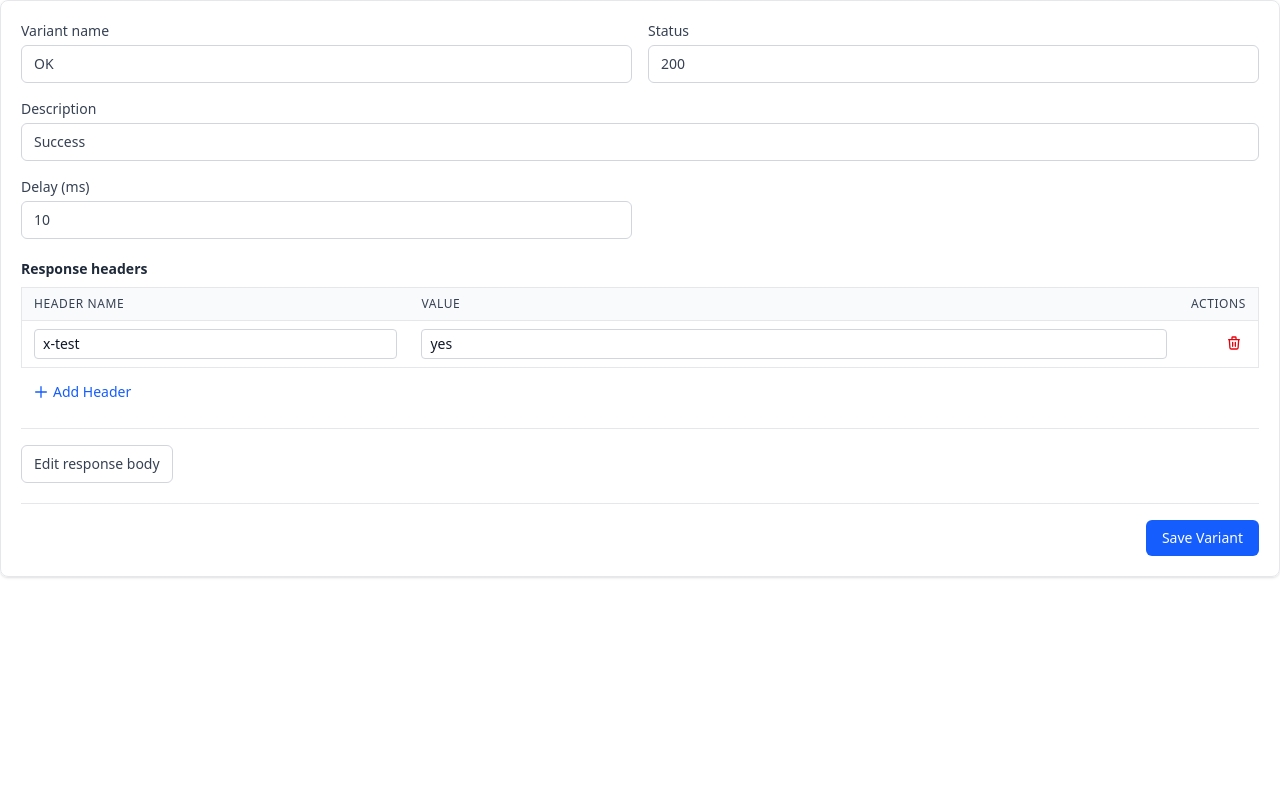
Test: VariantEditor › opens a bodyless Variant lazily as an empty octet-stream draft
Click the button "Edit response body".
click(97, 464)  # box [21,445,173,483]
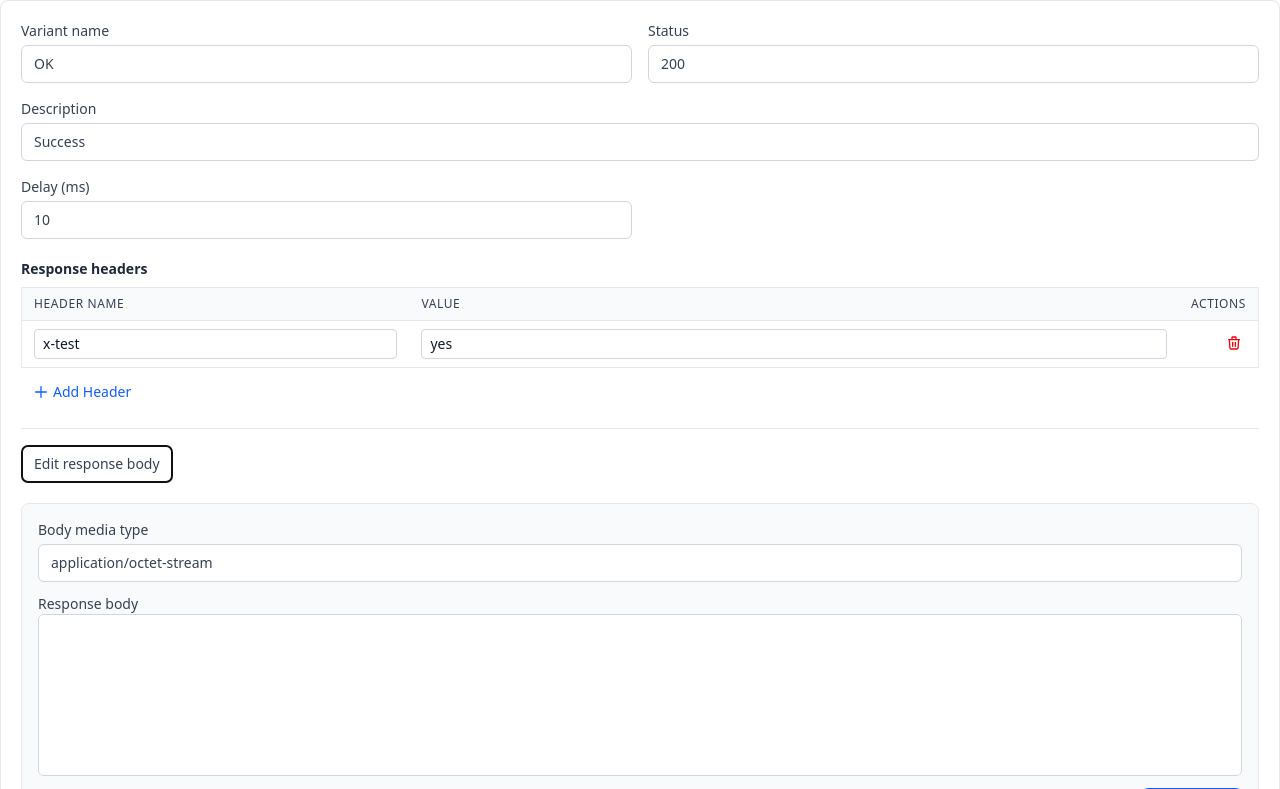
Expected: the field labelled "Body media type" holds "application/octet-stream", [38,544,1242,582]
